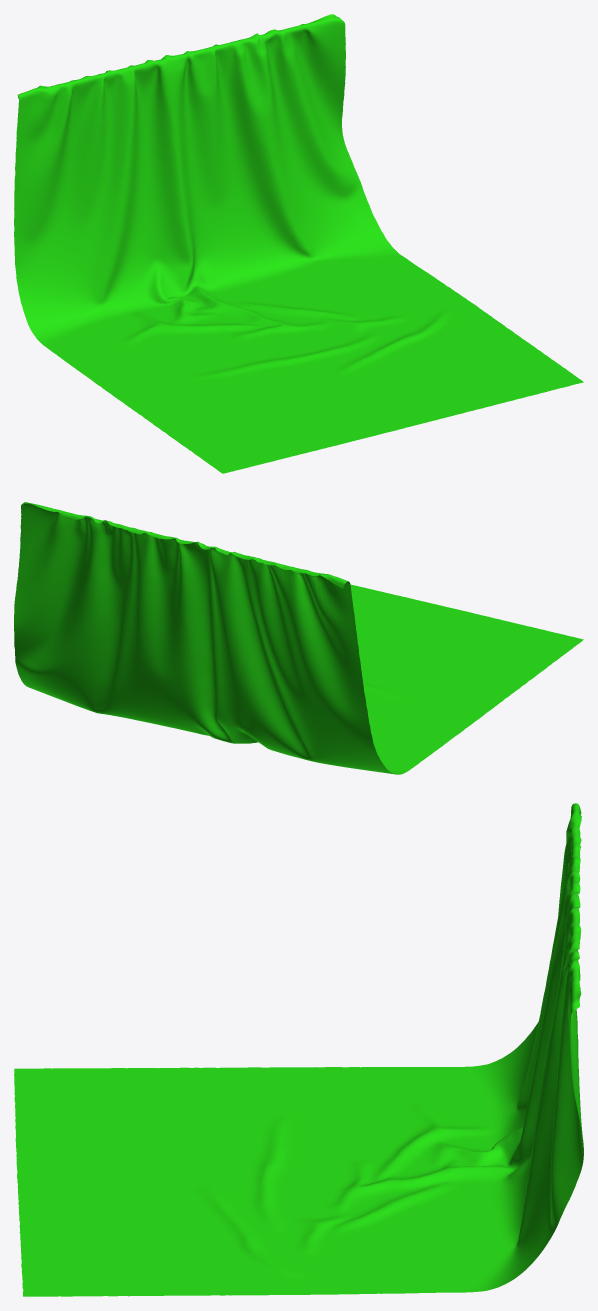
File: asset.glb
3 views of the same model, one above another, from view 1: azimuth 30°, elevation 25°; view 2: azimuth 150°, elevation 25°; view 3: azimuth 270°, elevation 25° (orthographic). The views are drawn at different scales.
Visible parts, largest first — view 1: Cloth Backdrop 01; view 2: Cloth Backdrop 01; view 3: Cloth Backdrop 01.
Part boxes in pixels (<box>): Cloth Backdrop 01: <box>14,14,583,473</box>; Cloth Backdrop 01: <box>14,502,583,774</box>; Cloth Backdrop 01: <box>14,803,583,1296</box>.
Bounding box in the file's own units: 0.2136 × 0.1209 × 0.2239.
